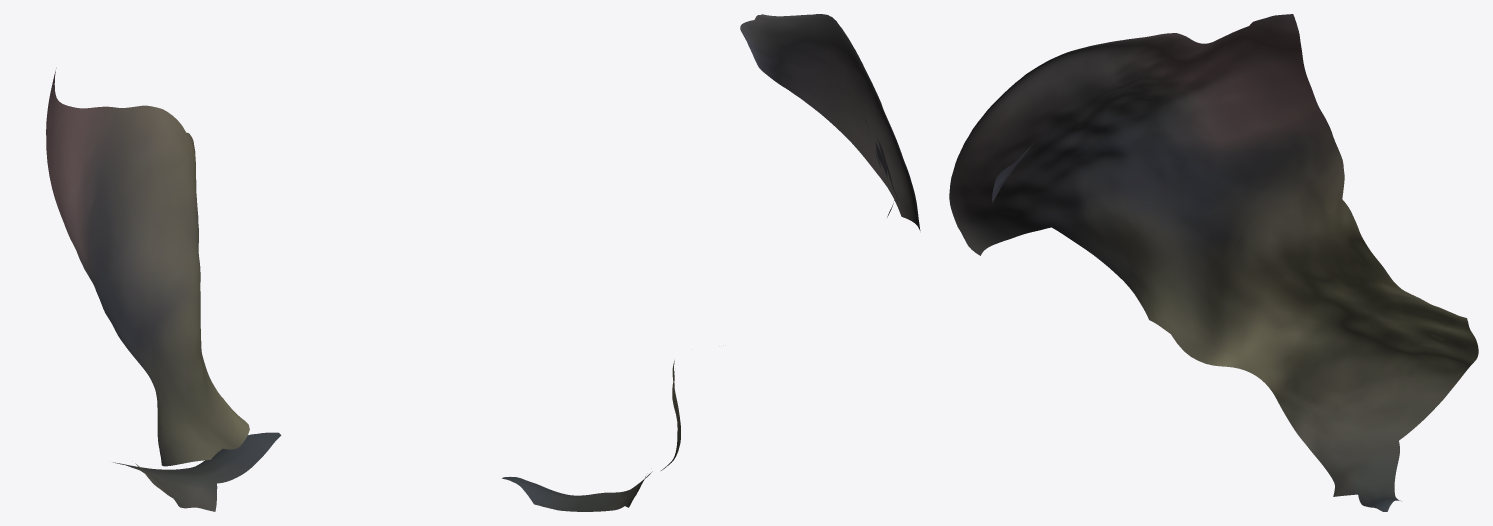
File: Cloud_global_new_13.glb
3 views of the same model, side by side, from view 1: azimuth 30°, elevation 25°; view 2: azimuth 150°, elevation 25°; view 3: azimuth 270°, elevation 25° (orthographic). The views are drawn at different scales.
Parts seen in each view (by area): view 1: LOD0; view 2: LOD0; view 3: LOD0.
Boxes of the visible parts, bbox=[...] form: LOD0: bbox=[46, 68, 281, 511]; LOD0: bbox=[502, 14, 920, 511]; LOD0: bbox=[949, 14, 1478, 511].
Size of what is drawn, in the model's own units: 0.7025 by 1.11 by 1.25.
